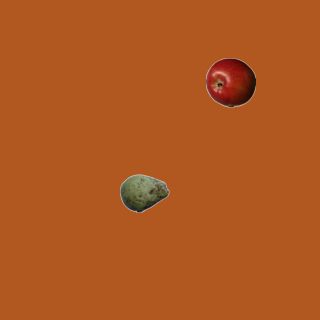Apple Braeburn: (205, 57, 255, 107)
Pear Stone: (119, 168, 169, 218)
